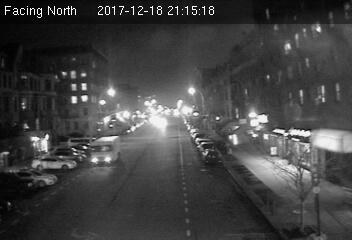car: (203, 149, 221, 163)
truck: (88, 136, 121, 166)
